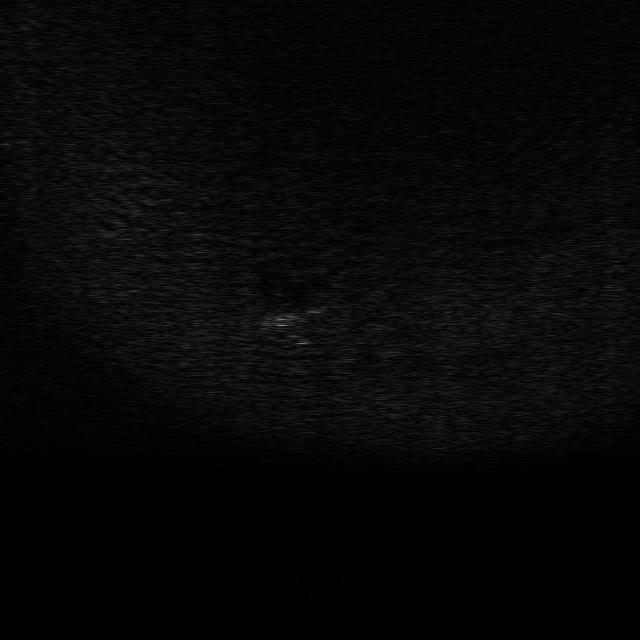plane: (246, 299, 328, 338)
